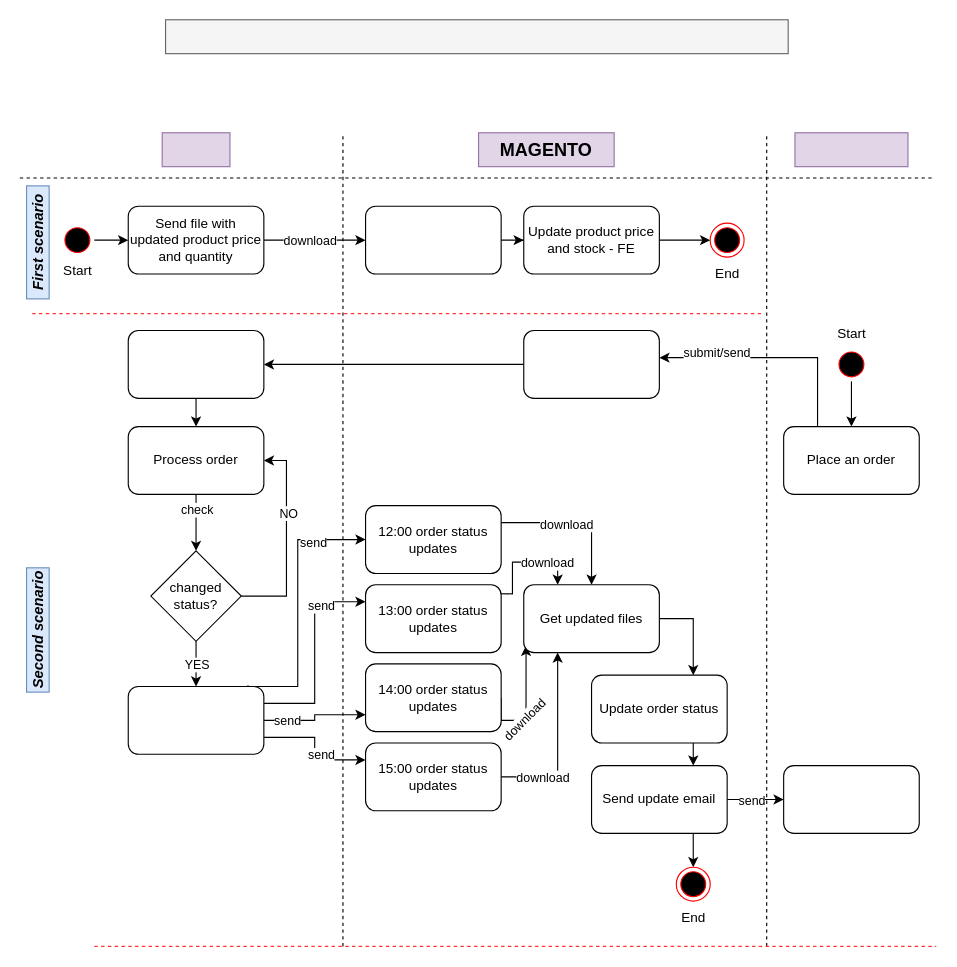
Some shapes in this 957 by 967 pixel diagram are drawn without their labels. Each missing label, with the centre of its shape:
"Change status files" belongs at point (195, 719).
"Consume file from the eCommerce platform" belongs at point (432, 239).
"CUSTOMER" belongs at point (851, 149).
"ERP" belongs at point (195, 149).
"Flowchart of order status and steps" belongs at point (476, 36).
"Gets orders" belongs at point (591, 363).
"New update email" belongs at point (851, 798).
"Send order for order processing" belongs at point (195, 363).
